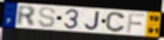3: (64, 9, 80, 31)
C: (105, 12, 127, 34)
F: (126, 12, 147, 34)
J: (84, 10, 102, 31)
R: (16, 4, 37, 28)
S: (37, 6, 58, 29)
